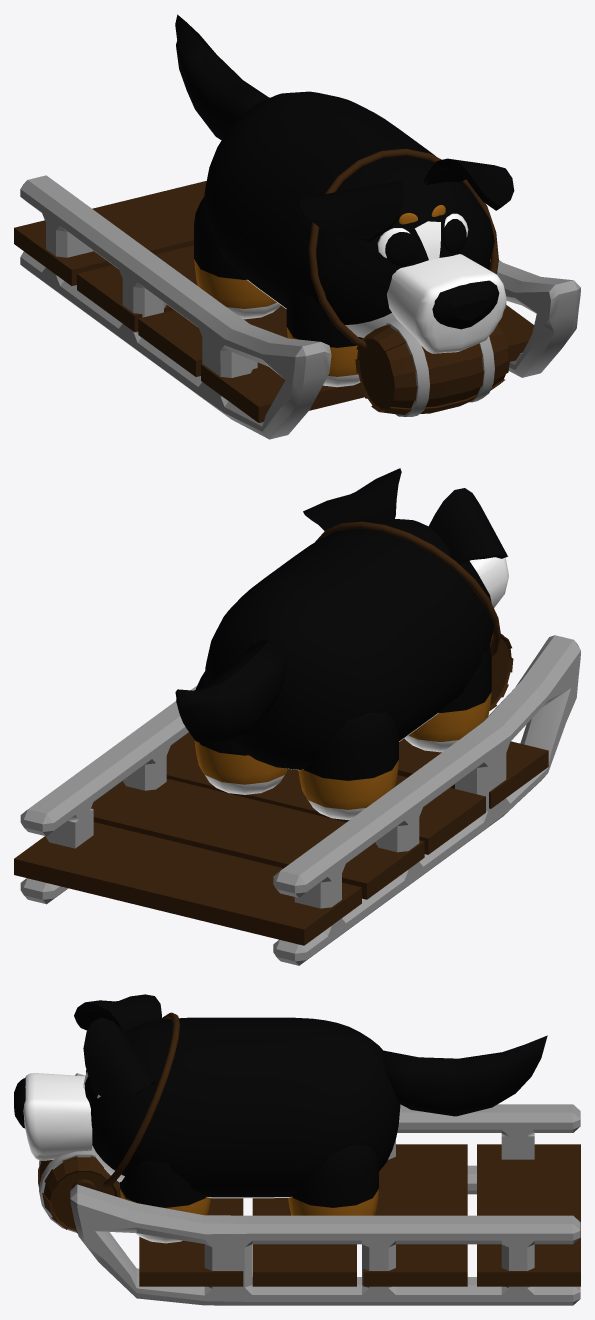
File: LaserDog5_01.FBX
3 renders of one model, top to bottom at view 1: azimuth 30°, elevation 25°; view 2: azimuth 150°, elevation 25°; view 3: azimuth 270°, elevation 25°, orthographic. The views are drawn at different scales.
Parts seen in each view (by area): view 1: Body, Sled Metal_R, Barrel, Box002, Muzzle, Sled Metal_L, Box005, Ear_R, Plane002, Paw_BackR, Box004, Paw_FrontR (+11 smaller); view 2: Body, Sled Metal_R, Box002, Box003, Sled Metal_L, Paw_BackR, Plane002, Box004, Paw_FrontR, Ear_R, Paw_BackL, Ear_L (+5 smaller); view 3: Body, Sled Metal_L, Box002, Box003, Plane001, Sled Metal_R, Muzzle, Box004, Paw_BackL, Box005, Ear_L, Paw_FrontL (+5 smaller).
Part boxes in pixels (left/top/right/bottom): Body: left=204, top=91, right=494, bottom=324; Sled Metal_R: left=20, top=175, right=331, bottom=439; Barrel: left=355, top=322, right=509, bottom=414; Box002: left=14, top=181, right=206, bottom=285; Muzzle: left=386, top=254, right=506, bottom=353; Sled Metal_L: left=490, top=259, right=580, bottom=377; Box005: left=201, top=305, right=533, bottom=422; Ear_R: left=300, top=181, right=403, bottom=240; Plane002: left=175, top=14, right=266, bottom=139; Paw_BackR: left=194, top=196, right=280, bottom=319; Box004: left=138, top=305, right=287, bottom=376; Paw_FrontR: left=286, top=289, right=362, bottom=387; Body: left=205, top=518, right=494, bottom=769; Sled Metal_R: left=273, top=635, right=580, bottom=965; Box002: left=14, top=822, right=361, bottom=945; Box003: left=91, top=778, right=424, bottom=899; Sled Metal_L: left=20, top=685, right=197, bottom=904; Paw_BackR: left=298, top=712, right=398, bottom=820; Plane002: left=177, top=641, right=287, bottom=746; Box004: left=166, top=732, right=485, bottom=854; Paw_FrontR: left=404, top=645, right=491, bottom=752; Ear_R: left=428, top=488, right=507, bottom=564; Paw_BackL: left=194, top=671, right=288, bottom=794; Ear_L: left=303, top=468, right=401, bottom=530; Body: left=84, top=1017, right=400, bottom=1197; Sled Metal_L: left=70, top=1184, right=580, bottom=1305; Box002: left=477, top=1144, right=580, bottom=1286; Box003: left=363, top=1144, right=467, bottom=1286; Plane001: left=382, top=1035, right=547, bottom=1116; Sled Metal_R: left=75, top=1073, right=580, bottom=1194; Muzzle: left=23, top=1073, right=92, bottom=1160; Box004: left=252, top=1198, right=356, bottom=1286; Paw_BackL: left=288, top=1144, right=378, bottom=1215; Box005: left=139, top=1198, right=243, bottom=1286; Ear_L: left=83, top=1017, right=155, bottom=1103; Paw_FrontL: left=120, top=1160, right=210, bottom=1243.
Bounding box in the file's own units: 512 × 446 × 960.
